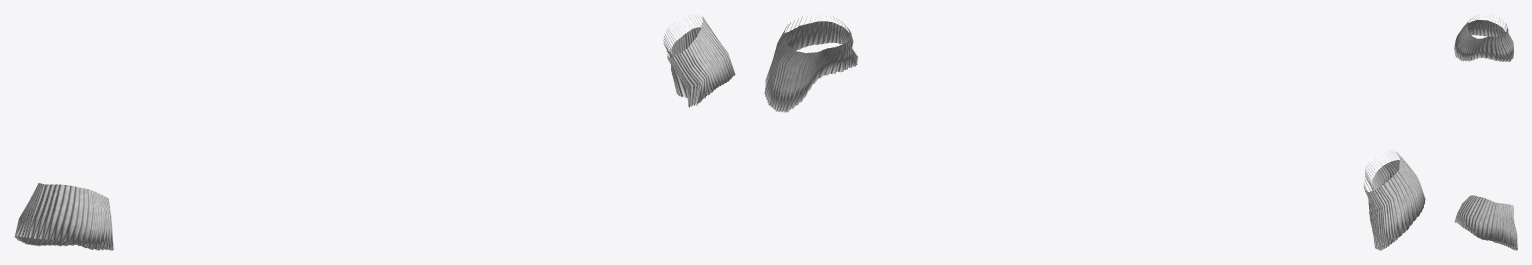
Rendered from Rukav.glb.
3 views of the same model, side by side, from view 1: azimuth 30°, elevation 25°; view 2: azimuth 150°, elevation 25°; view 3: azimuth 270°, elevation 25° (orthographic). The views are drawn at different scales.
Parts seen in each view (by area): view 1: Rukav1; view 2: Rukav1; view 3: Rukav1.
Boxes of the visible parts, <box> form: Rukav1: <box>14,15,735,250</box>; Rukav1: <box>764,16,1425,250</box>; Rukav1: <box>1454,15,1517,250</box>.
Size of the model in its own units: 1.71 by 0.2055 by 0.2285.
1 material, 1 textured.
